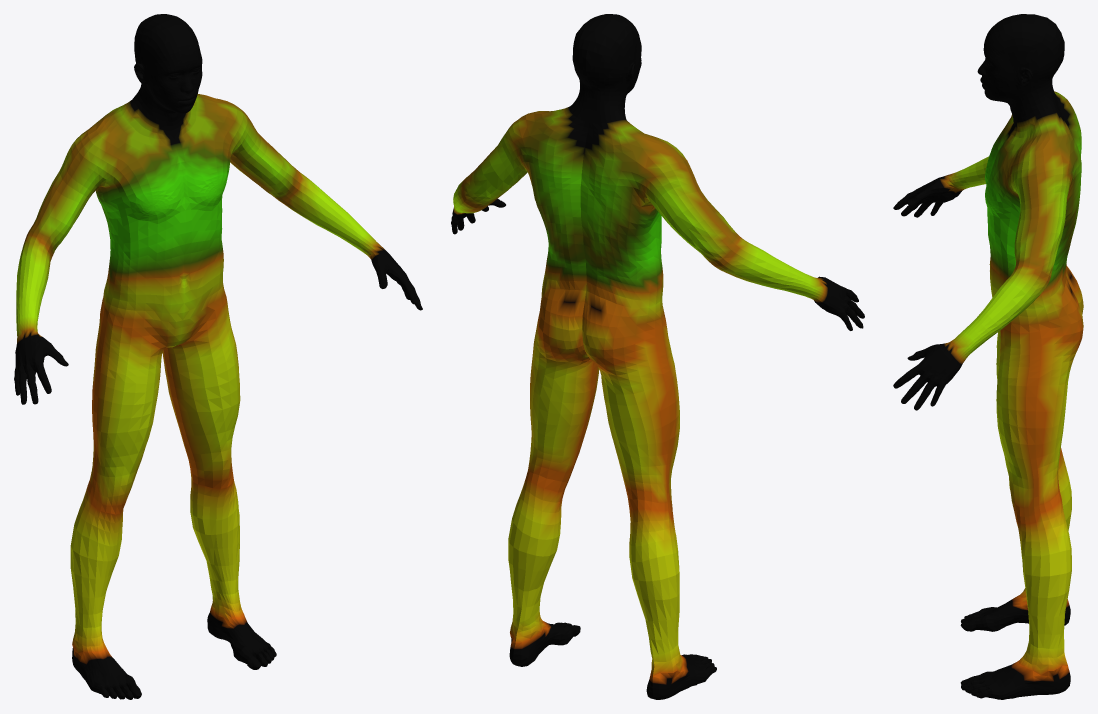
The model's file is male-stocky.glb.
3 renders of one model, left to right at view 1: azimuth 30°, elevation 25°; view 2: azimuth 150°, elevation 25°; view 3: azimuth 270°, elevation 25°, orthographic.
Parts seen in each view (by area): view 1: world; view 2: world; view 3: world.
Boxes of the visible parts, x1,y1,x2,y2 form: world: (14,14,422,699); world: (451,14,864,699); world: (893,14,1083,699).
Size of the model in its own units: 1.28 by 1.98 by 0.5311.
